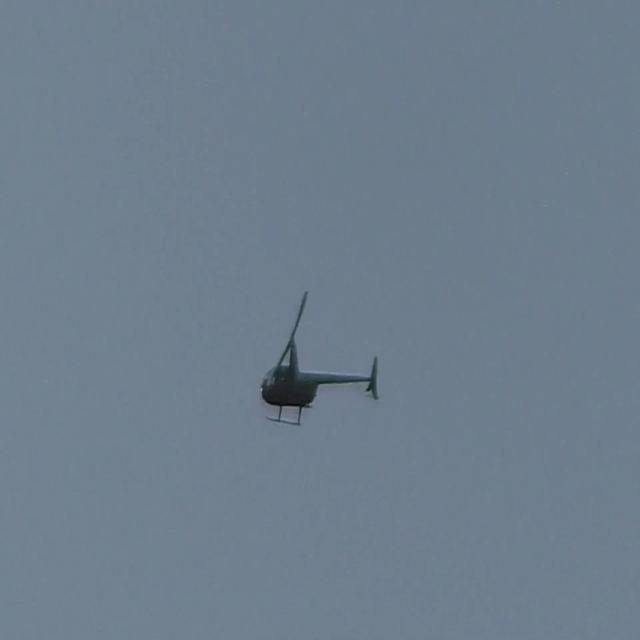CIV_HELO: (260, 334, 379, 428)
